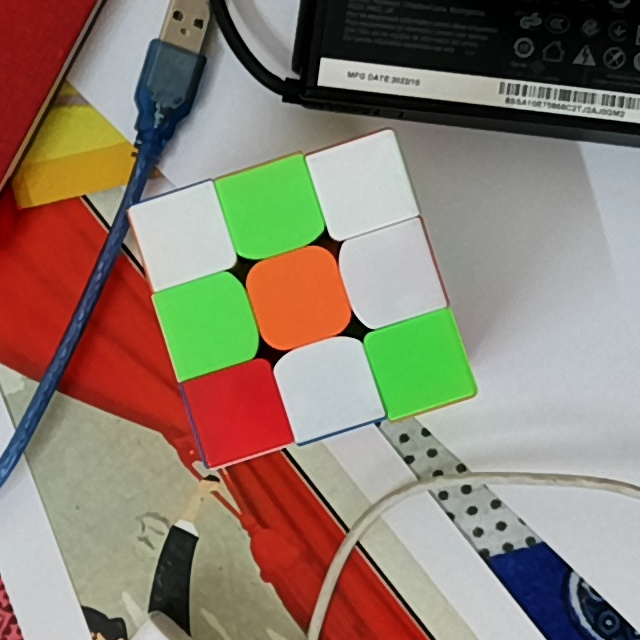tile: (328, 149, 401, 220), (355, 238, 428, 308), (292, 351, 365, 420), (263, 263, 332, 333), (204, 377, 274, 445), (235, 177, 307, 242), (385, 330, 455, 396), (148, 202, 216, 267), (176, 289, 242, 355)
